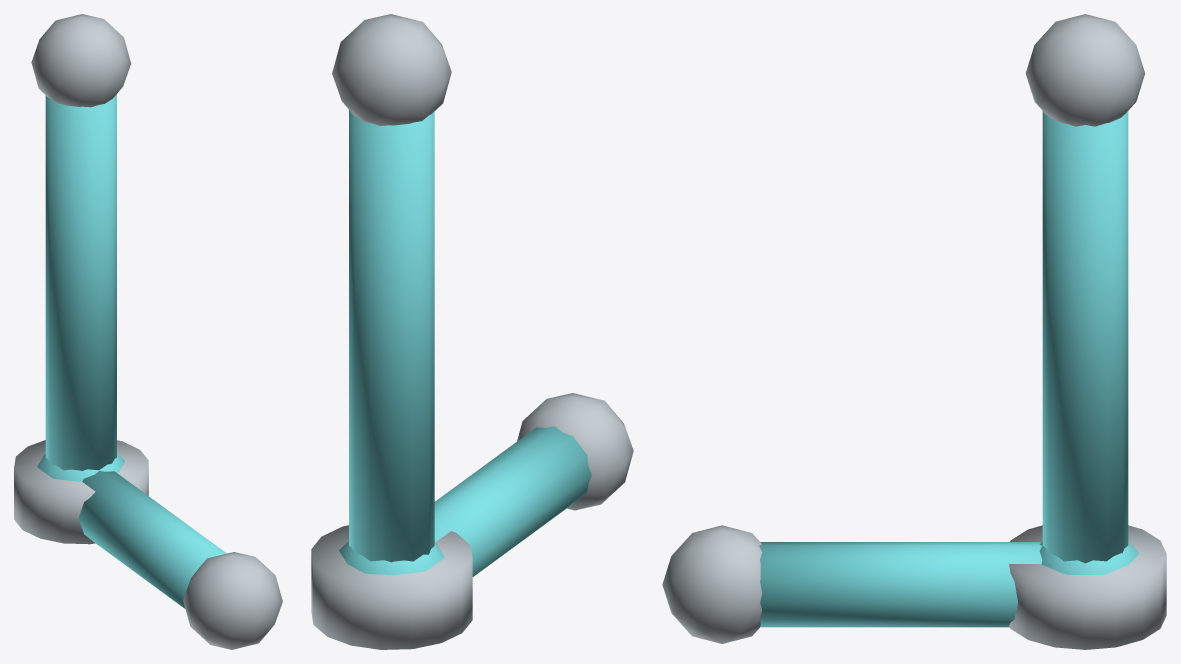
File: pipe_riser_standard.glb
3 renders of one model, left to right at view 1: azimuth 30°, elevation 25°; view 2: azimuth 150°, elevation 25°; view 3: azimuth 270°, elevation 25°, orthographic. The views are drawn at different scales.
Parts seen in each view (by area): view 1: Conduit_cyan, Coupler_steel, JunctionCap_steel, Junction_cyan; view 2: Conduit_cyan, Coupler_steel, JunctionCap_steel, Junction_cyan; view 3: Conduit_cyan, Coupler_steel, JunctionCap_steel, Junction_cyan.
Boxes of the visible parts, x1,y1,x2,y2 form: Conduit_cyan: (45,94,226,608); Coupler_steel: (31,14,282,649); JunctionCap_steel: (14,440,148,544); Junction_cyan: (37,453,124,481); Conduit_cyan: (349,110,591,576); Coupler_steel: (332,14,633,510); JunctionCap_steel: (311,525,472,649); Junction_cyan: (339,541,444,575); Conduit_cyan: (759,111,1128,627); Coupler_steel: (662,14,1145,643); JunctionCap_steel: (1009,525,1166,649); Junction_cyan: (1039,541,1139,574).
Bounding box in the file's own units: 0.38 × 1.61 × 1.18.
